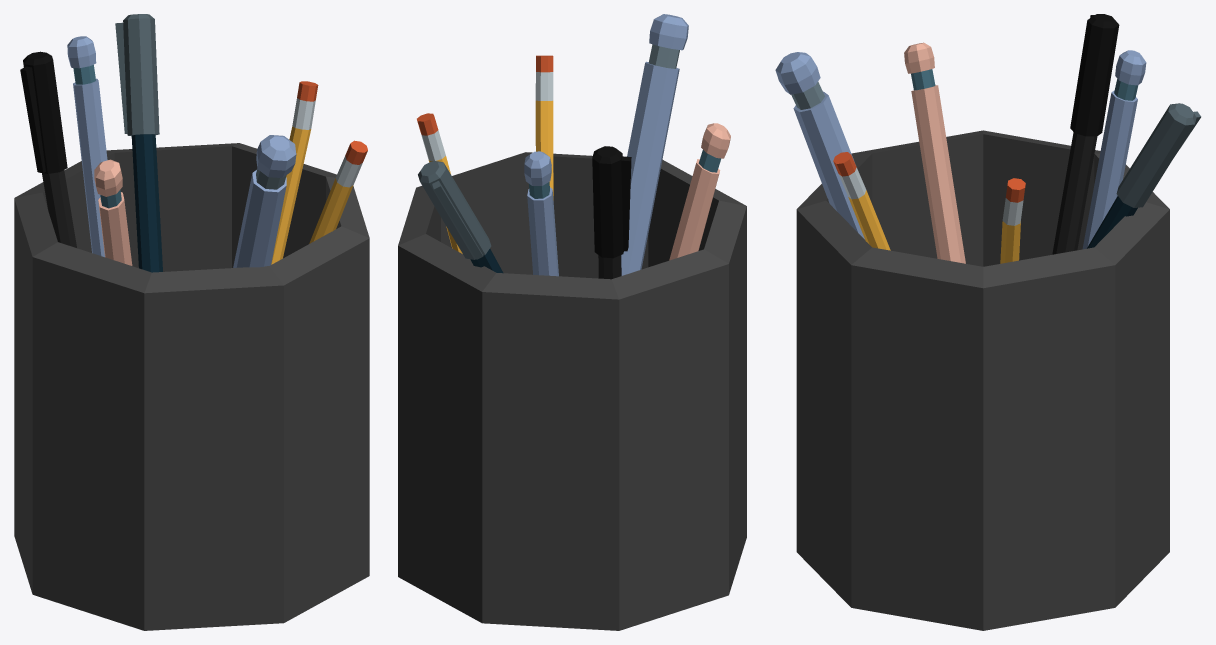
The model's file is FurnAcc_PensV1.fbx.
3 renders of one model, left to right at view 1: azimuth 30°, elevation 25°; view 2: azimuth 150°, elevation 25°; view 3: azimuth 270°, elevation 25°, orthographic. The views are drawn at different scales.
Parts seen in each view (by area): view 1: FurnAcc_PensV1; view 2: FurnAcc_PensV1; view 3: FurnAcc_PensV1.
Boxes of the visible parts, x1,y1,x2,y2 form: FurnAcc_PensV1: [14, 14, 369, 630]; FurnAcc_PensV1: [398, 14, 746, 630]; FurnAcc_PensV1: [775, 14, 1201, 630].
Size of the model in its own units: 13.53 by 19.76 by 15.43.
